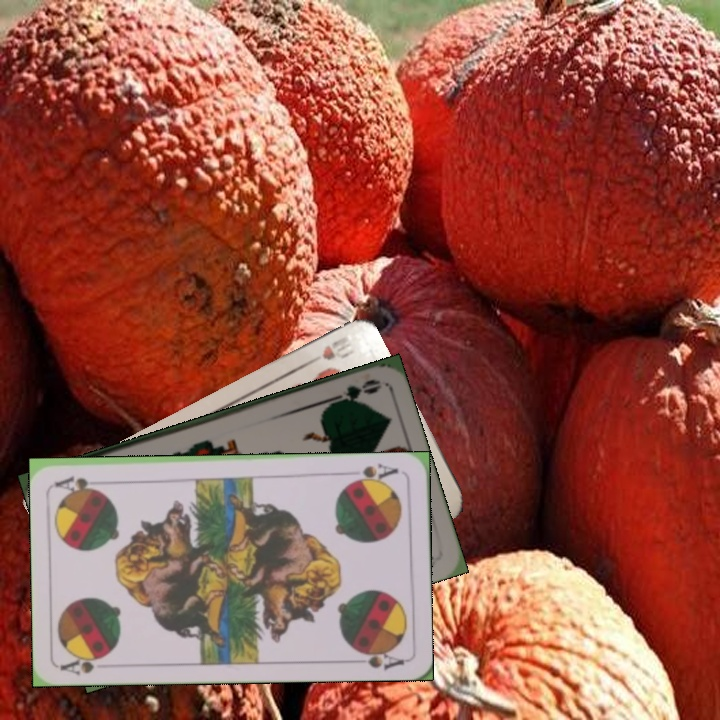GO: (324, 375, 382, 408)
H10: (302, 332, 356, 369)
SA: (344, 459, 401, 487), (57, 650, 114, 677)
